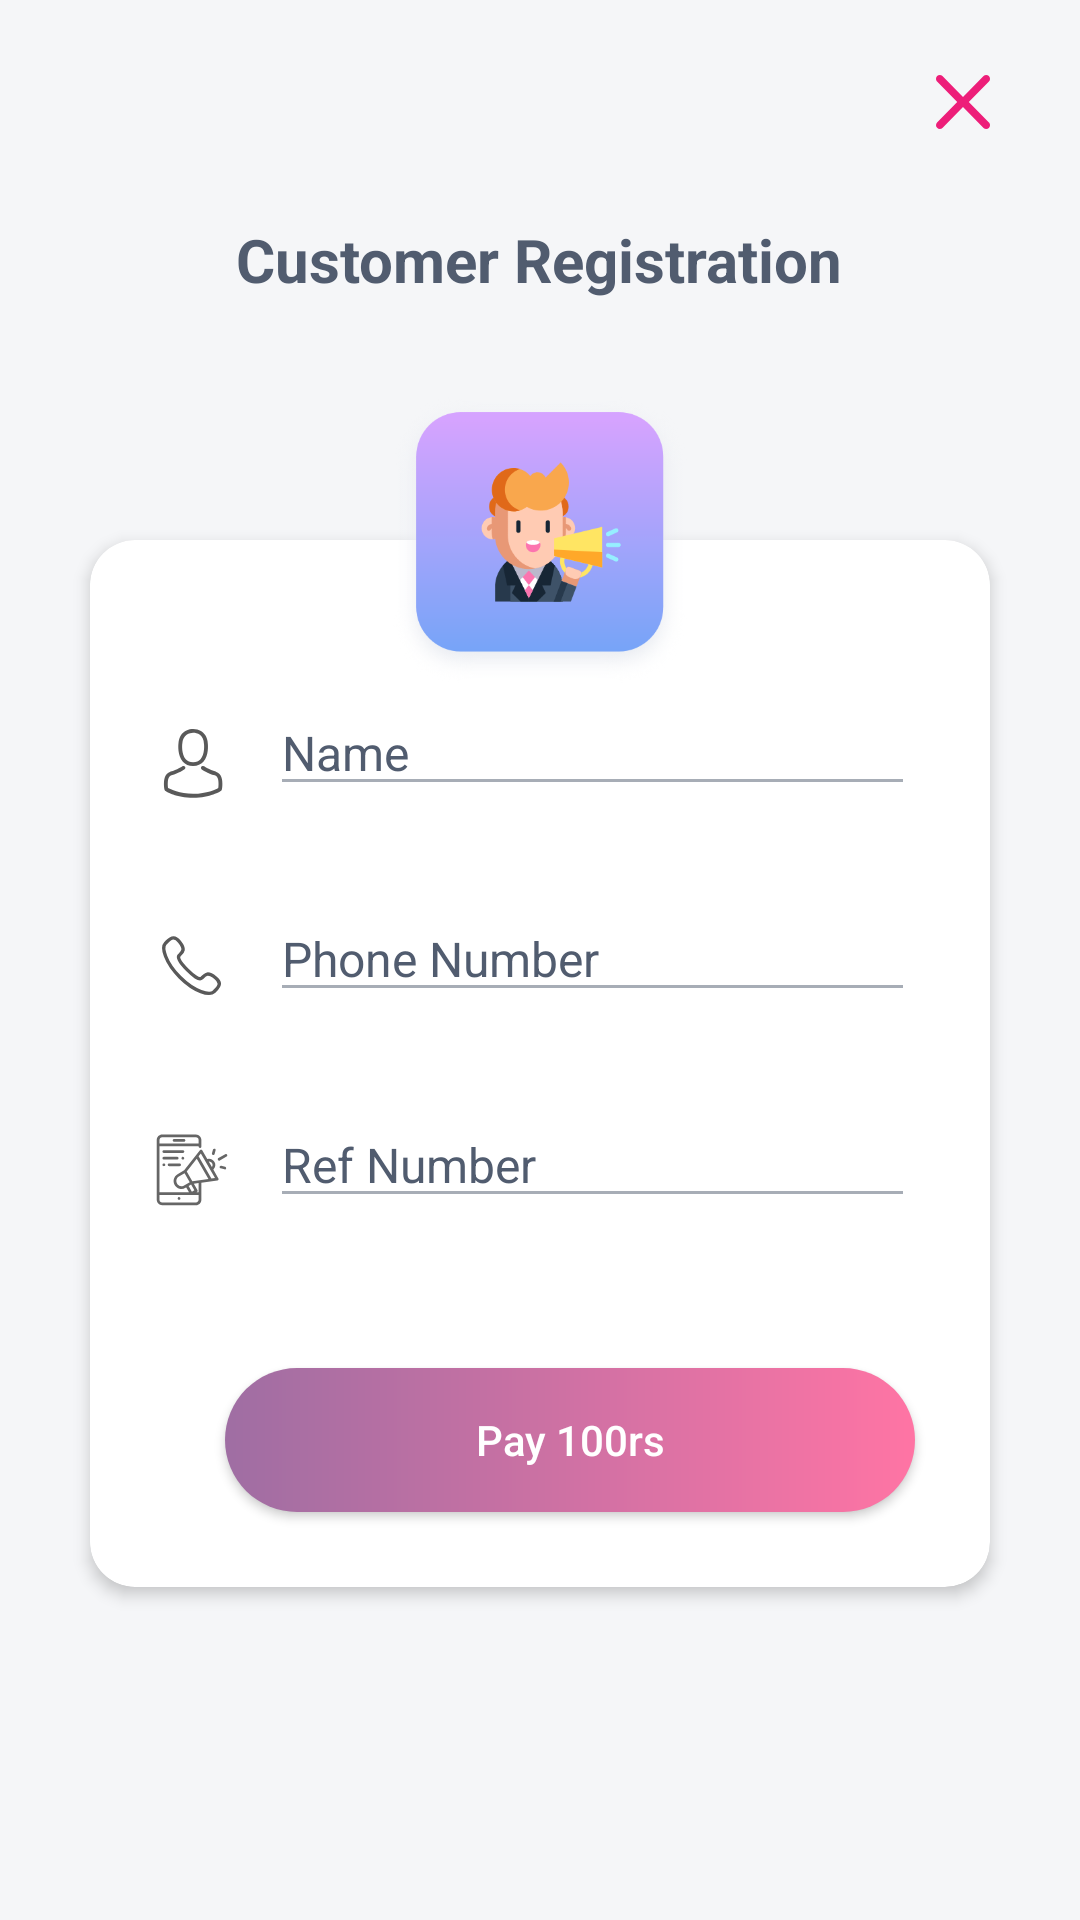

Icon click points for this 1080px×1920px phone screenshot, format [x,y]:
cal: [191,965]
close: [963,102]
